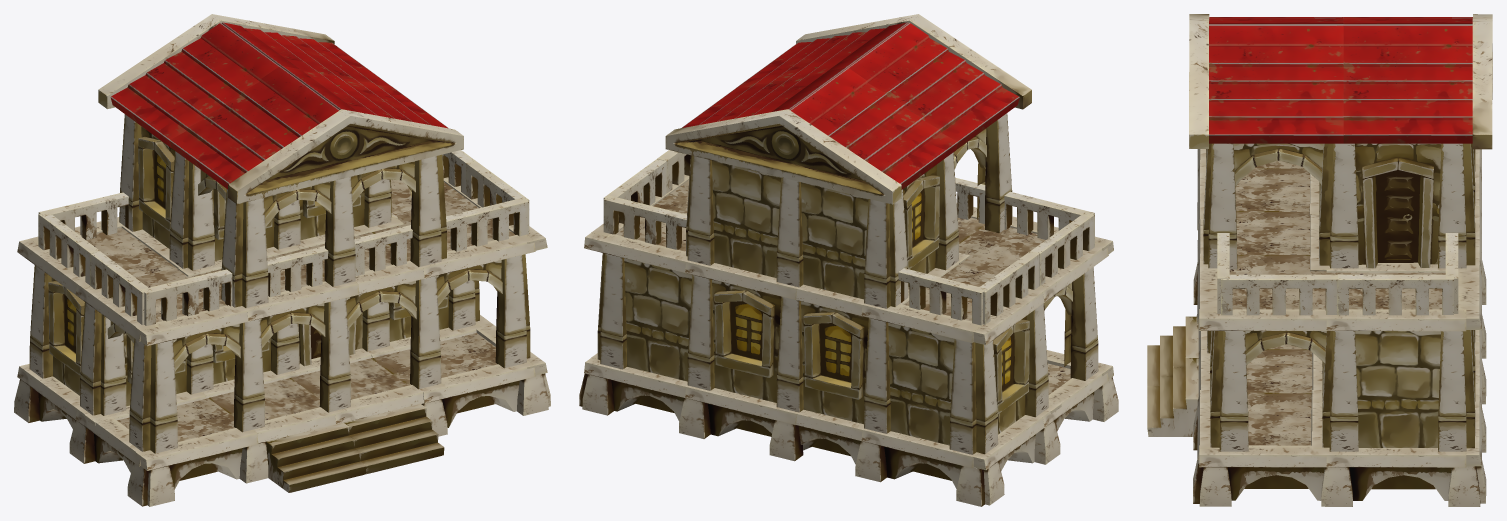
Rendered from Rome_Village_Buildings_07.FBX.
3 renders of one model, left to right at view 1: azimuth 30°, elevation 25°; view 2: azimuth 150°, elevation 25°; view 3: azimuth 270°, elevation 25°, orthographic. The views are drawn at different scales.
Parts seen in each view (by area): view 1: Rome_Village_Buildings_07; view 2: Rome_Village_Buildings_07; view 3: Rome_Village_Buildings_07.
Boxes of the visible parts, bbox=[...] form: Rome_Village_Buildings_07: bbox=[14, 14, 550, 506]; Rome_Village_Buildings_07: bbox=[579, 14, 1118, 506]; Rome_Village_Buildings_07: bbox=[1147, 14, 1492, 506].
Bounding box in the file's own units: 1030 × 827 × 690.
